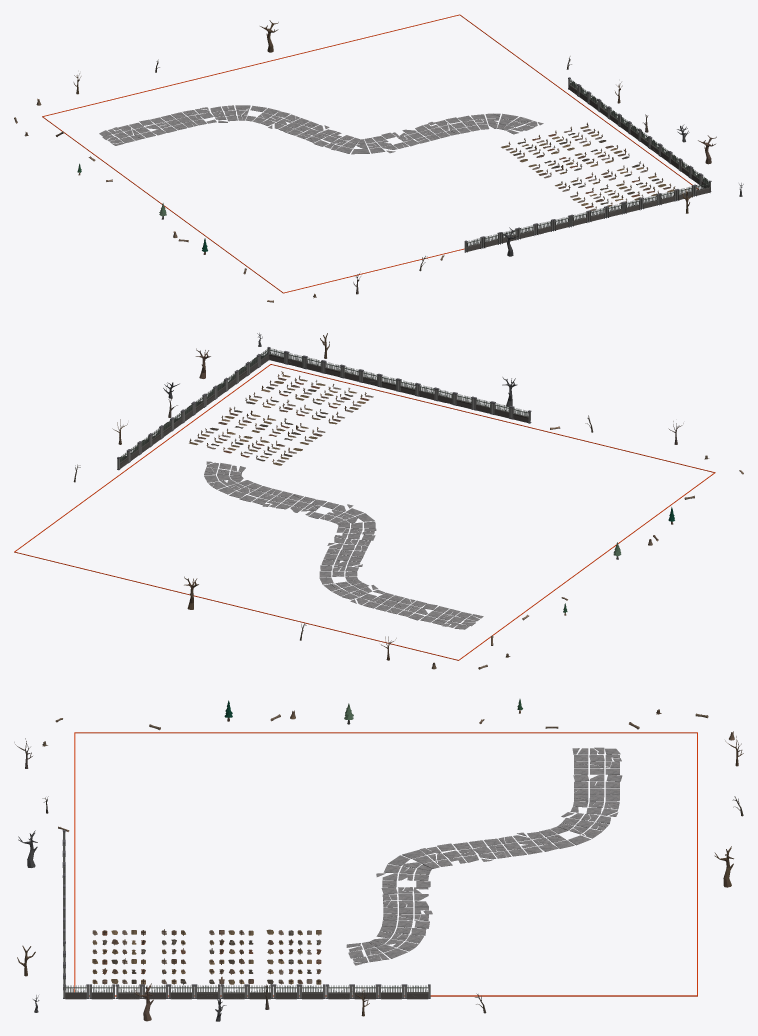
File: EnvNoColliders.fbx
3 views of the same model, one above another, from view 1: azimuth 30°, elevation 25°; view 2: azimuth 150°, elevation 25°; view 3: azimuth 270°, elevation 25° (orthographic). The views are drawn at different scales.
Parts seen in each view (by area): view 1: Road, Fence, Grave, Border, Trees; view 2: Road, Fence, Grave, Border, Trees; view 3: Road, Fence, Grave, Border, Trees.
Part boxes in pixels (x1,y1,x2,y2): Road: (99, 105, 543, 154); Fence: (464, 77, 711, 252); Grave: (501, 122, 675, 210); Border: (42, 14, 698, 293); Trees: (14, 20, 743, 302); Road: (204, 461, 483, 629); Fence: (117, 347, 531, 470); Grave: (189, 371, 373, 465); Border: (14, 364, 715, 660); Trees: (73, 333, 743, 669); Road: (346, 747, 622, 965); Fence: (62, 830, 430, 999); Grave: (92, 929, 321, 984); Border: (74, 732, 697, 996); Trees: (14, 699, 743, 1021).
Size of the model in its own units: 1904 by 111 by 1880.
